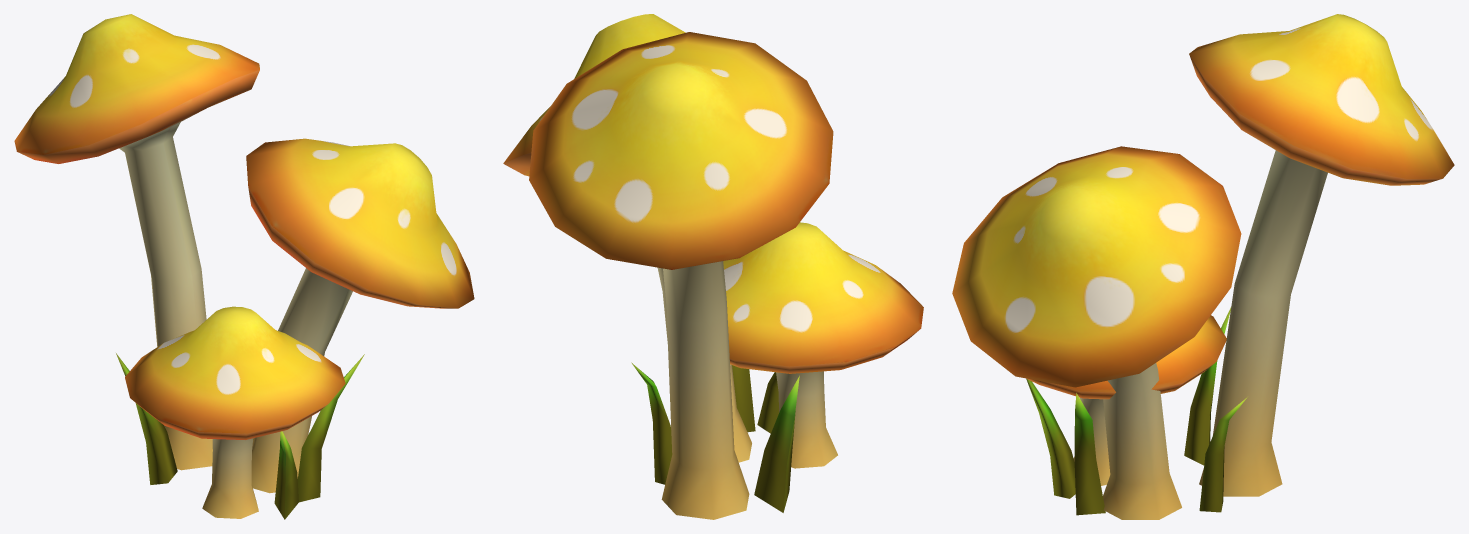
The model's file is MushroomYellow1.FBX.
3 renders of one model, left to right at view 1: azimuth 30°, elevation 25°; view 2: azimuth 150°, elevation 25°; view 3: azimuth 270°, elevation 25°, orthographic. The views are drawn at different scales.
Visible parts, largest first — view 1: MushroomYellow1; view 2: MushroomYellow1; view 3: MushroomYellow1.
Part boxes in pixels (bbox=[...]): MushroomYellow1: bbox=[14, 14, 474, 519]; MushroomYellow1: bbox=[503, 14, 923, 519]; MushroomYellow1: bbox=[952, 14, 1454, 519].
Bounding box in the file's own units: 37.7 × 44.77 × 44.33.
